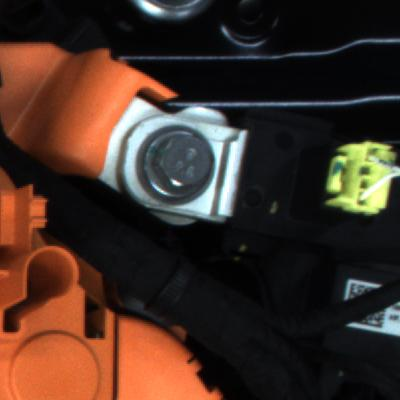nut_b: (139, 120, 228, 208)
